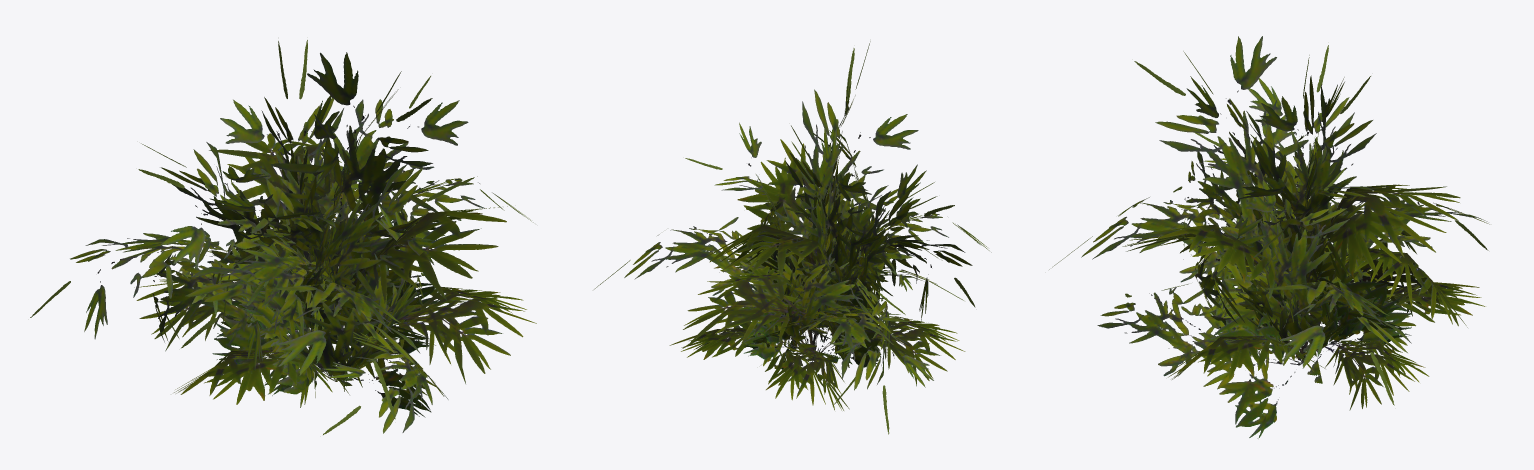
File: bushes_4.glb
The picture shows the model from 3 angles, left to right: view 1: azimuth 30°, elevation 25°; view 2: azimuth 150°, elevation 25°; view 3: azimuth 270°, elevation 25°; orthographic projection. The views are drawn at different scales.
Parts seen in each view (by area): view 1: bush_04; view 2: bush_04; view 3: bush_04.
Boxes of the visible parts, left/top/right/bottom form: bush_04: left=30, top=40, right=536, bottom=434; bush_04: left=594, top=41, right=991, bottom=434; bush_04: left=1049, top=36, right=1489, bottom=438.
Bounding box in the file's own units: 5.55 × 5.02 × 5.49.
1 material, 1 textured.
